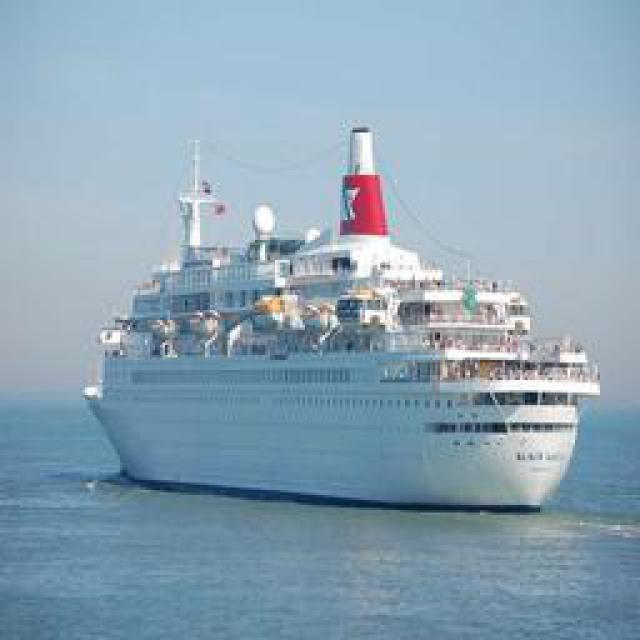Ship: (81, 122, 589, 515)
